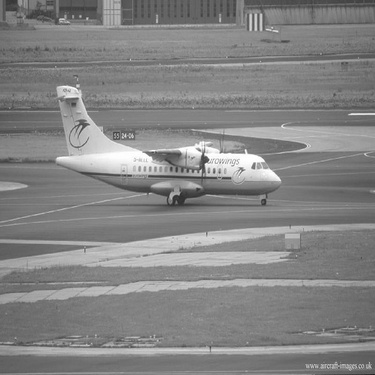airplane: (28, 56, 289, 227)
